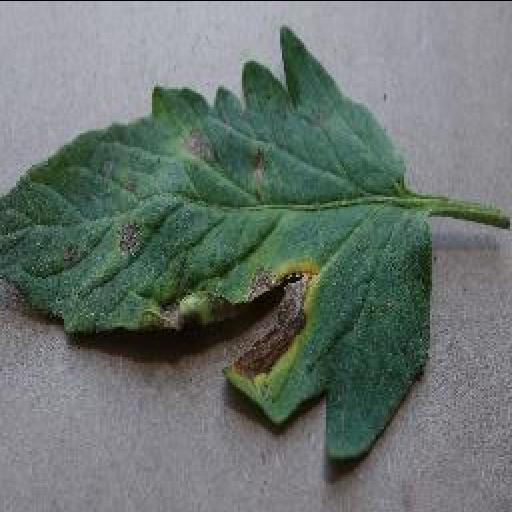disease_tomato: (2, 22, 430, 460)
